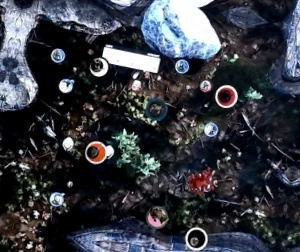black: (185, 164, 225, 200), (180, 220, 212, 252)
brown_turquoise: (143, 95, 170, 123)
orange: (83, 137, 110, 164)
pink_green: (142, 201, 173, 231)
red: (212, 82, 239, 109)
white: (85, 53, 113, 80)
